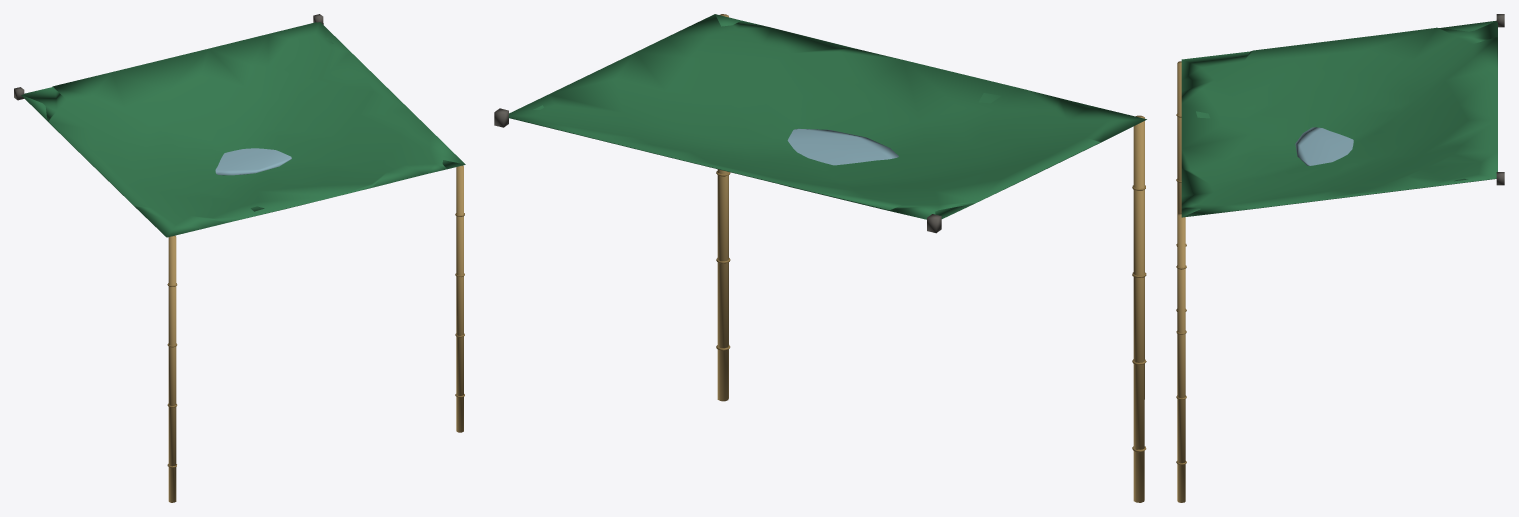
File: bat_xe_om.glb
3 renders of one model, left to right at view 1: azimuth 30°, elevation 25°; view 2: azimuth 150°, elevation 25°; view 3: azimuth 270°, elevation 25°, orthographic. The views are drawn at different scales.
Visible parts, largest first — view 1: bat_xe_om; view 2: bat_xe_om; view 3: bat_xe_om.
Boxes of the visible parts, left/top/right/bottom form: bat_xe_om: left=14, top=14, right=465, bottom=502; bat_xe_om: left=494, top=14, right=1146, bottom=502; bat_xe_om: left=1176, top=14, right=1504, bottom=502.
Bounding box in the file's own units: 2.66 × 2.54 × 2.29.
